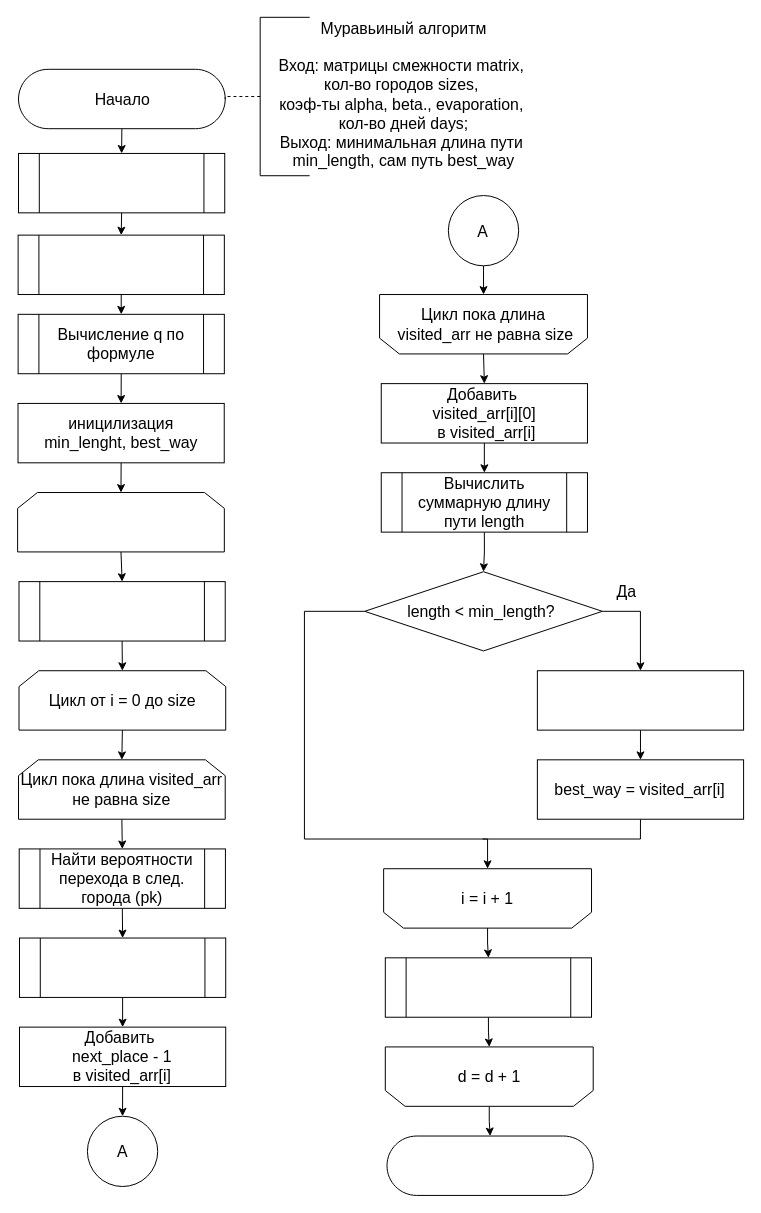
Image size: 761x1213. Some labels were removed from this diagram. The centre of each missing label's shape, as x and y in pixels:
"length = min_length?" goes at [640,700].
"Выбрать след. город (next_place)" goes at [122,967].
"Иницилизация списка посещённых городов visited_arr" goes at [121,611].
"Конец" goes at [489,1165].
"обновить pherom_matr" goes at [488,987].
"Получить матрицу видимости visib_matr" goes at [120,264].
"Получить матрицу феромонов pherom_matr" goes at [121,182].
"Цикл от d = 0 до days" goes at [120,522].
